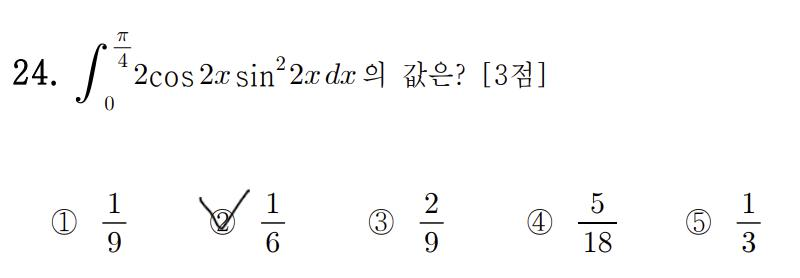1: (194, 188, 251, 239)
paper: (50, 206, 80, 237), (207, 208, 237, 239), (366, 206, 396, 237), (524, 207, 554, 238), (683, 207, 713, 238)
